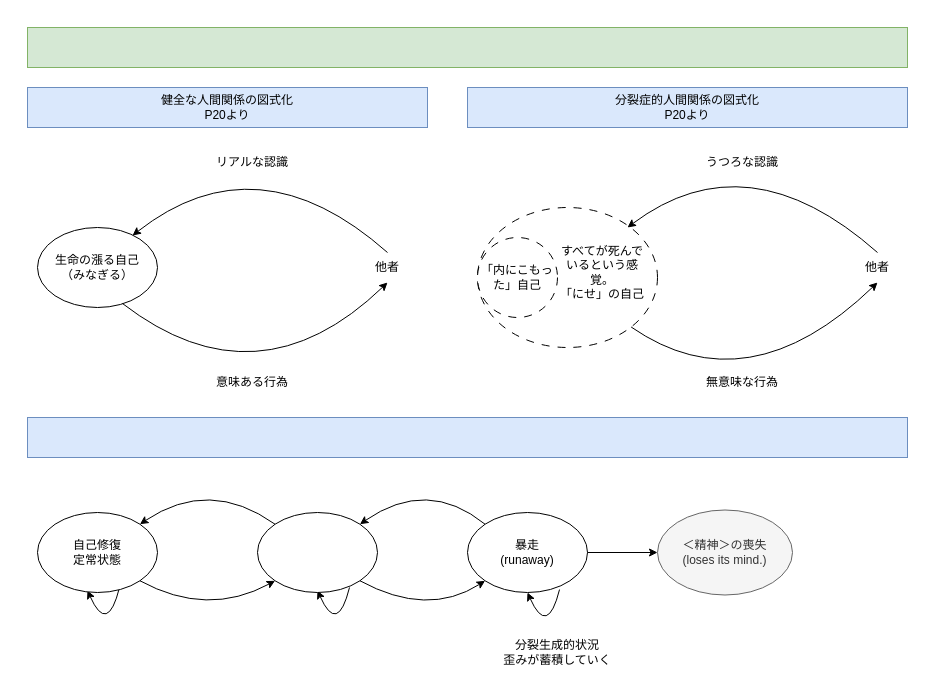
The diagram is 934 pixels wide and 694 high, and some of its shapes have lost their labels. The centre of each missing label's shape, as x and y in pixels:
"デカルトからベイトソンへ 自己と精神" belongs at point (467, 47).
"動揺 (oscillation)" belongs at point (317, 552).
"心的システム＝精神のふるまい方 P290,291より" belongs at point (467, 437).
